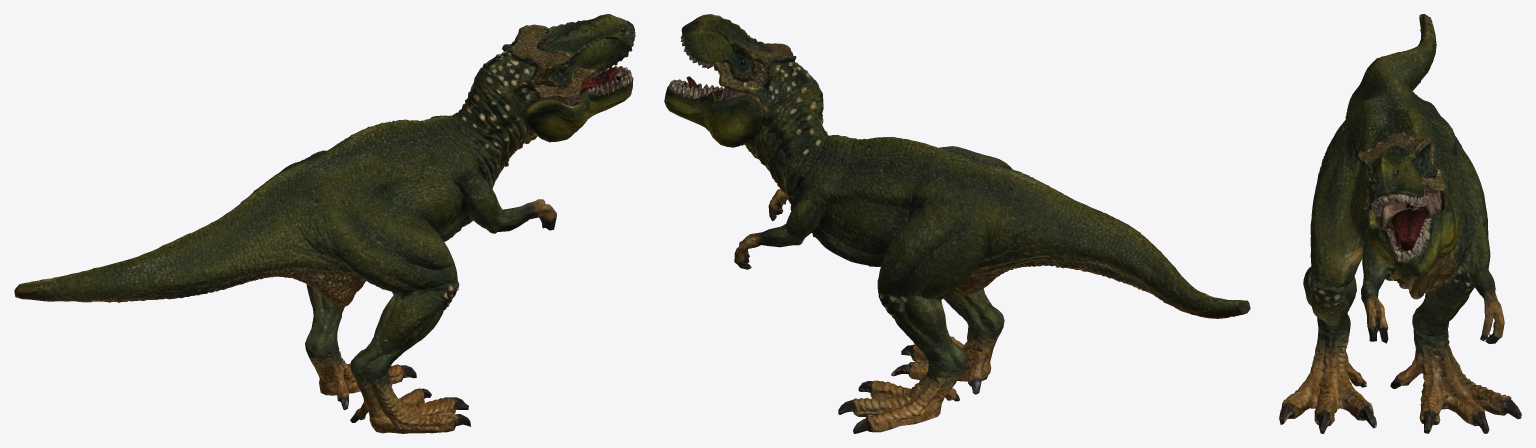
Rendered from dino.obj.
3 views of the same model, side by side, from view 1: azimuth 30°, elevation 25°; view 2: azimuth 150°, elevation 25°; view 3: azimuth 270°, elevation 25° (orthographic). The views are drawn at different scales.
Parts seen in each view (by area): view 1: dino_milimeter; view 2: dino_milimeter; view 3: dino_milimeter.
Part boxes in pixels (bbox=[...]): dino_milimeter: bbox=[14, 14, 635, 433]; dino_milimeter: bbox=[664, 14, 1250, 433]; dino_milimeter: bbox=[1279, 14, 1521, 433].
Size of the model in its own units: 27.39 by 14.52 by 8.63.
Materials: 1 (1 with a texture image).
